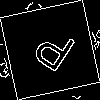P: (25, 25, 78, 82)
